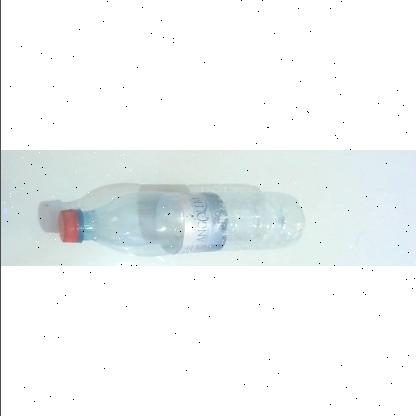Plastic Bottle: (57, 192, 304, 257)
